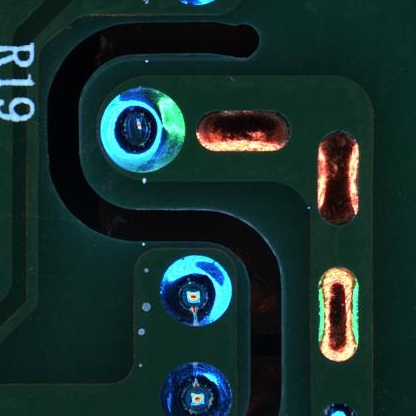spot: (101, 86, 187, 172), (161, 252, 232, 329), (160, 361, 234, 416)
